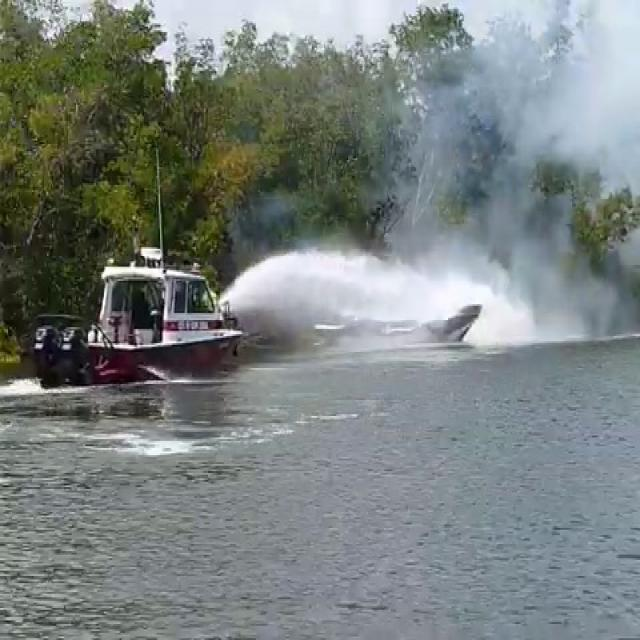Smoke: (227, 7, 626, 350)
